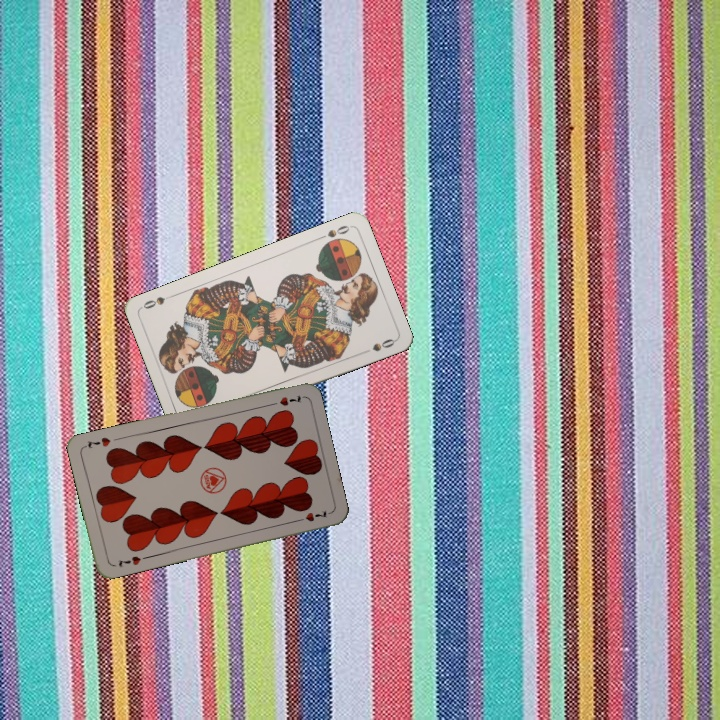H7: (265, 391, 305, 409), (114, 552, 143, 570)
SO: (314, 221, 353, 242)
